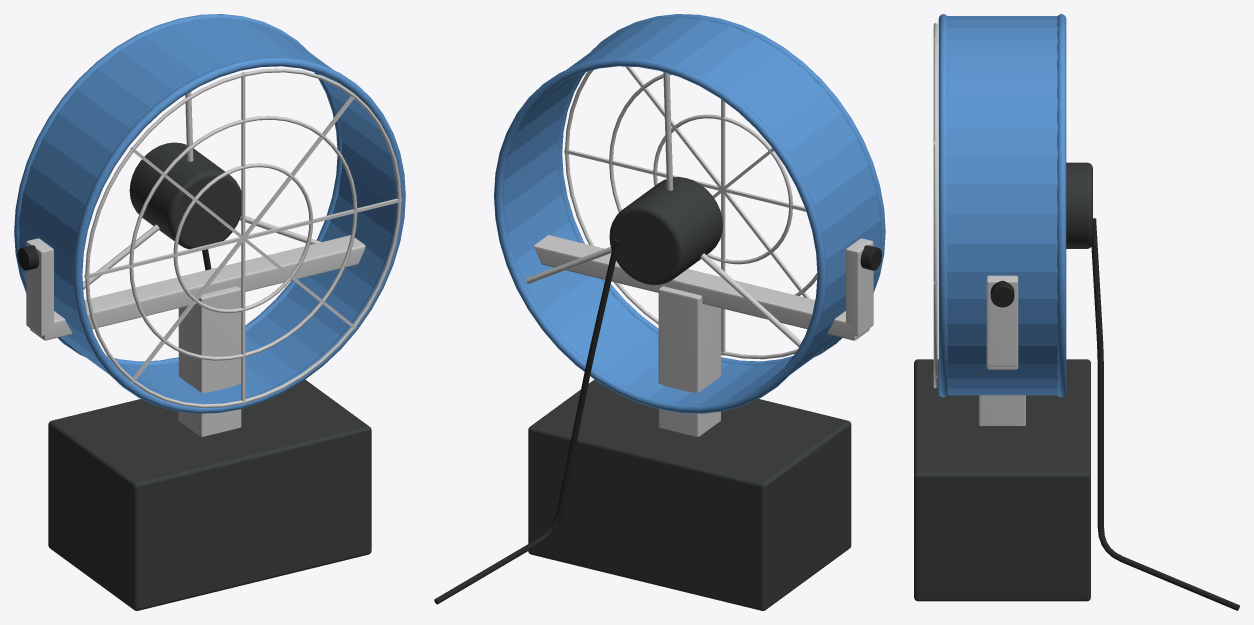
File: industrial.workshop.dyno_fan.glb
3 views of the same model, side by side, from view 1: azimuth 30°, elevation 25°; view 2: azimuth 150°, elevation 25°; view 3: azimuth 270°, elevation 25° (orthographic).
Parts seen in each view (by area): view 1: main__paint_333, main__paint_59c, main__galv_ccc, main__paint_222; view 2: main__paint_333, main__paint_59c, main__galv_ccc, main__paint_222; view 3: main__paint_59c, main__paint_333, main__galv_ccc, main__paint_222.
Part boxes in pixels (bbox=[...]): main__paint_333: bbox=[48, 142, 371, 610]; main__paint_59c: bbox=[14, 14, 405, 413]; main__galv_ccc: bbox=[26, 68, 401, 436]; main__paint_222: bbox=[17, 245, 211, 270]; main__paint_333: bbox=[528, 177, 851, 610]; main__paint_59c: bbox=[494, 14, 885, 413]; main__galv_ccc: bbox=[526, 66, 873, 436]; main__paint_222: bbox=[434, 239, 881, 604]; main__paint_59c: bbox=[938, 14, 1066, 397]; main__paint_333: bbox=[914, 162, 1092, 601]; main__galv_ccc: bbox=[933, 23, 1025, 425]; main__paint_222: bbox=[990, 218, 1239, 610].
Bounding box in the file's own units: 1.1 × 1.44 × 0.8286.
